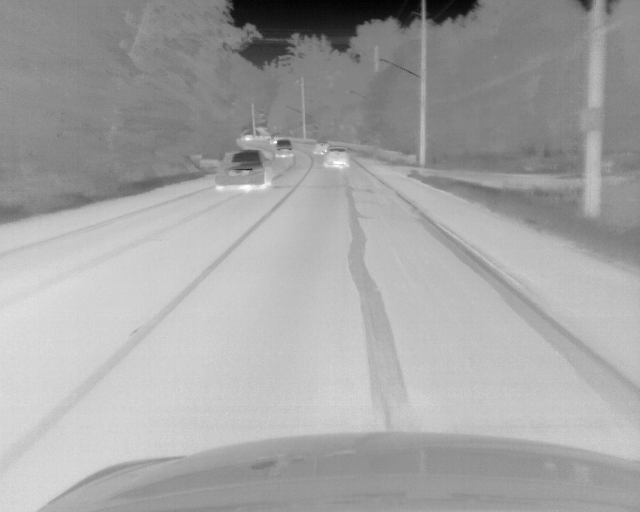car: (210, 148, 272, 190), (323, 146, 349, 168), (274, 138, 293, 158), (312, 141, 329, 156)
